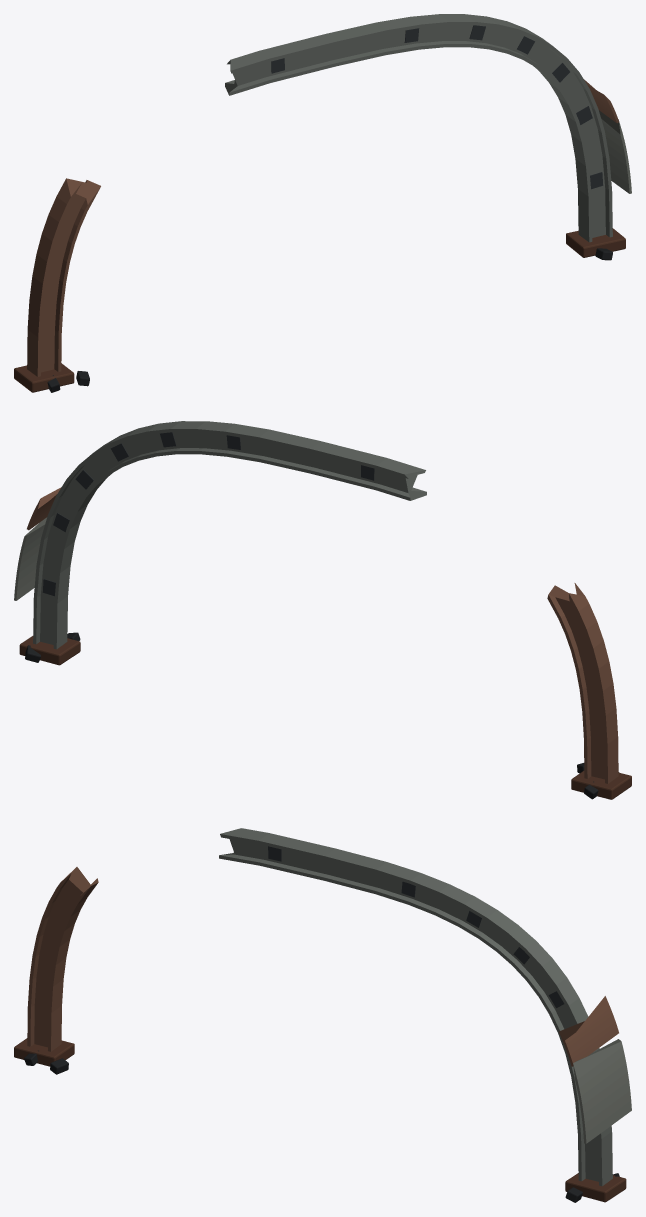
The model's file is site_rib_broken.glb.
The picture shows the model from 3 angles, top to bottom: view 1: azimuth 30°, elevation 25°; view 2: azimuth 150°, elevation 25°; view 3: azimuth 330°, elevation 25°; orthographic projection.
Parts seen in each view (by area): view 1: rib_r, rib_l, foot-1, skin0, gusset1; view 2: rib_r, rib_l, foot-1, gusset1, skin0; view 3: rib_r, rib_l, skin0, foot-1, gusset1, rubble-1_0.
Part boxes in pixels (box(x1,y1,x2,y2)): rib_r: box(225, 14, 612, 242); rib_l: box(27, 79, 618, 376); foot-1: box(14, 228, 625, 392); skin0: box(599, 110, 631, 193); gusset1: box(271, 25, 603, 189); rib_r: box(33, 421, 426, 649); rib_l: box(27, 487, 618, 783); foot-1: box(19, 636, 631, 799); gusset1: box(42, 432, 374, 596); skin0: box(14, 517, 46, 600); rib_r: box(219, 828, 612, 1186); rib_l: box(27, 867, 618, 1066); skin0: box(573, 1039, 631, 1143); foot-1: box(14, 1038, 626, 1202); gusset1: box(268, 846, 564, 1007); rubble-1_0: box(24, 1050, 619, 1202).
Size of the model in its own units: 22.64 by 10.01 by 3.
